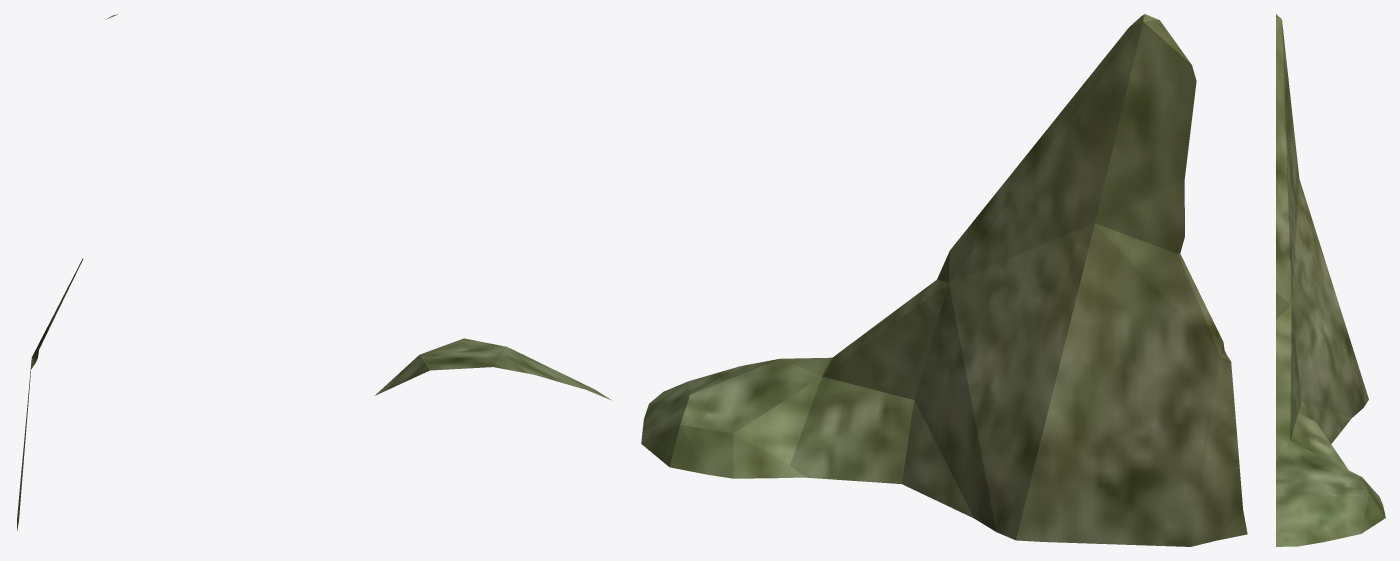
3 renders of one model, left to right at view 1: azimuth 30°, elevation 25°; view 2: azimuth 150°, elevation 25°; view 3: azimuth 270°, elevation 25°, orthographic. The views are drawn at different scales.
Bounding box in the file's own units: 0.9741 × 0.7888 × 0.2188.
Materials: 1 (1 with a texture image).
